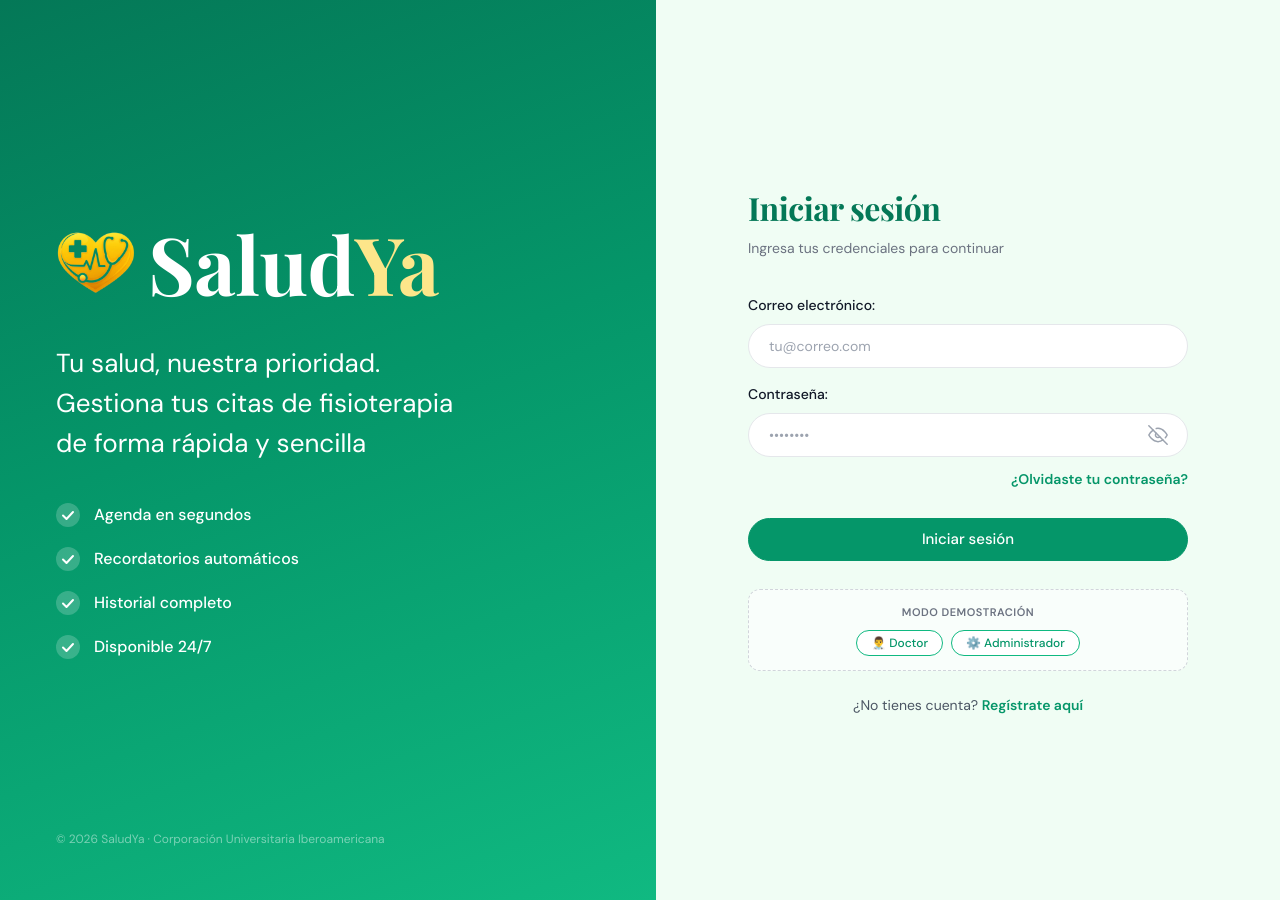
<App /> — Routing › al hacer clic en "Administrador", muestra el panel de admin
The width and height of the screenshot is (1280, 900).
Click the button "⚙️ Administrador".
click(1015, 643)  # box [951,630,1080,656]
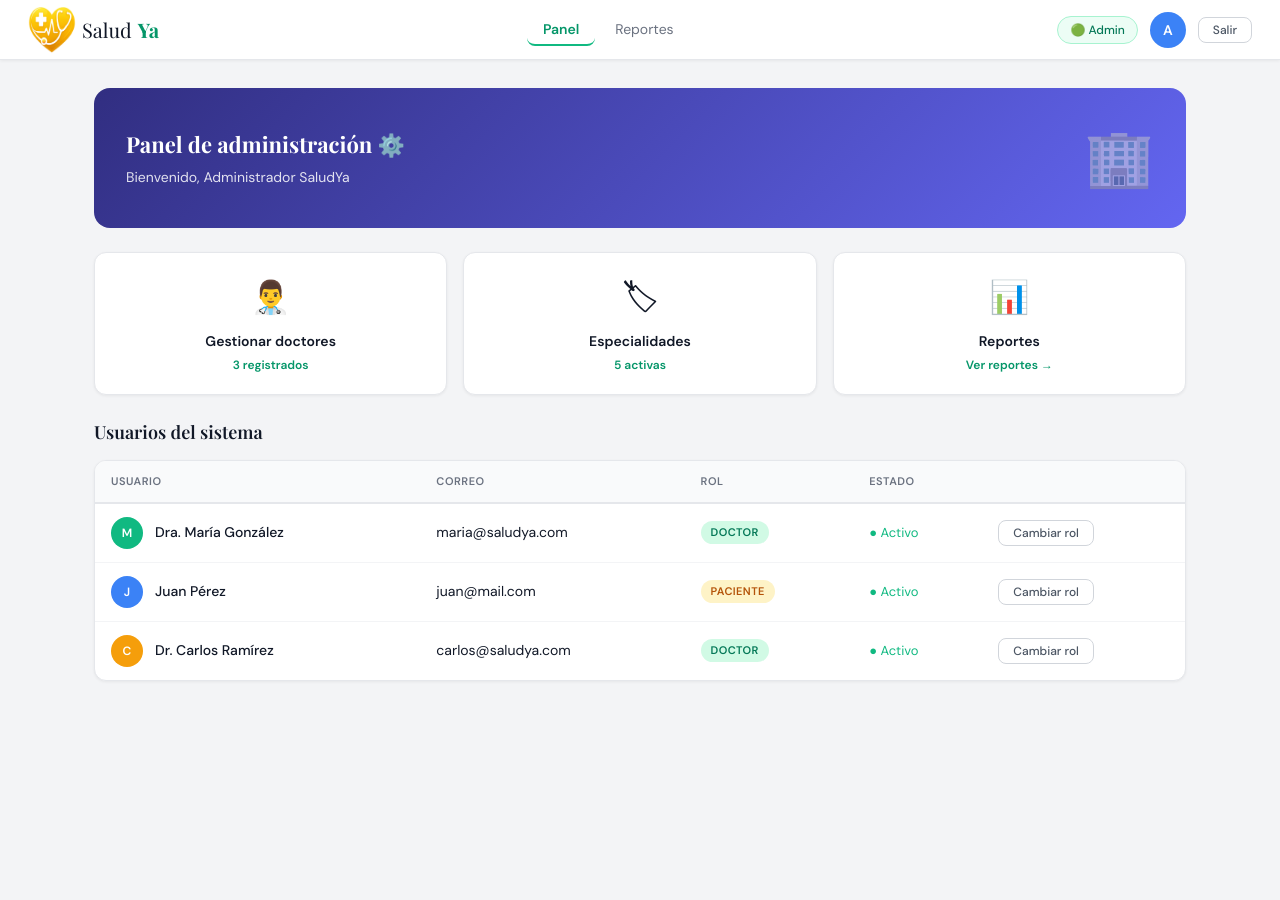
Result: the heading "Panel de administración ⚙️" is shown at [126,128,405,161]
